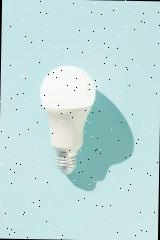lightbulb: (38, 65, 96, 175)
